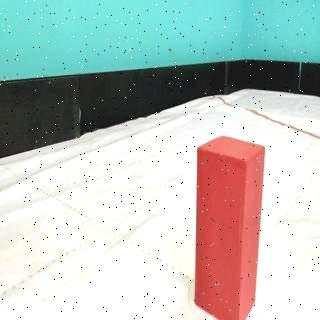redbox: (196, 133, 266, 320)
